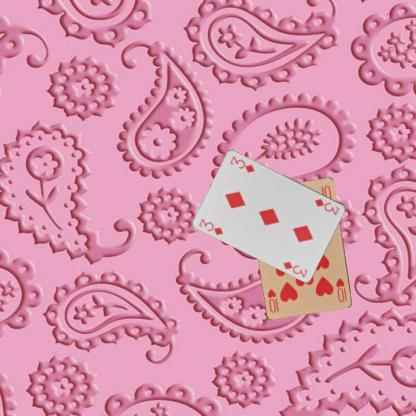10h: (334, 276, 348, 303)
3d: (196, 216, 225, 236), (312, 196, 340, 216)
